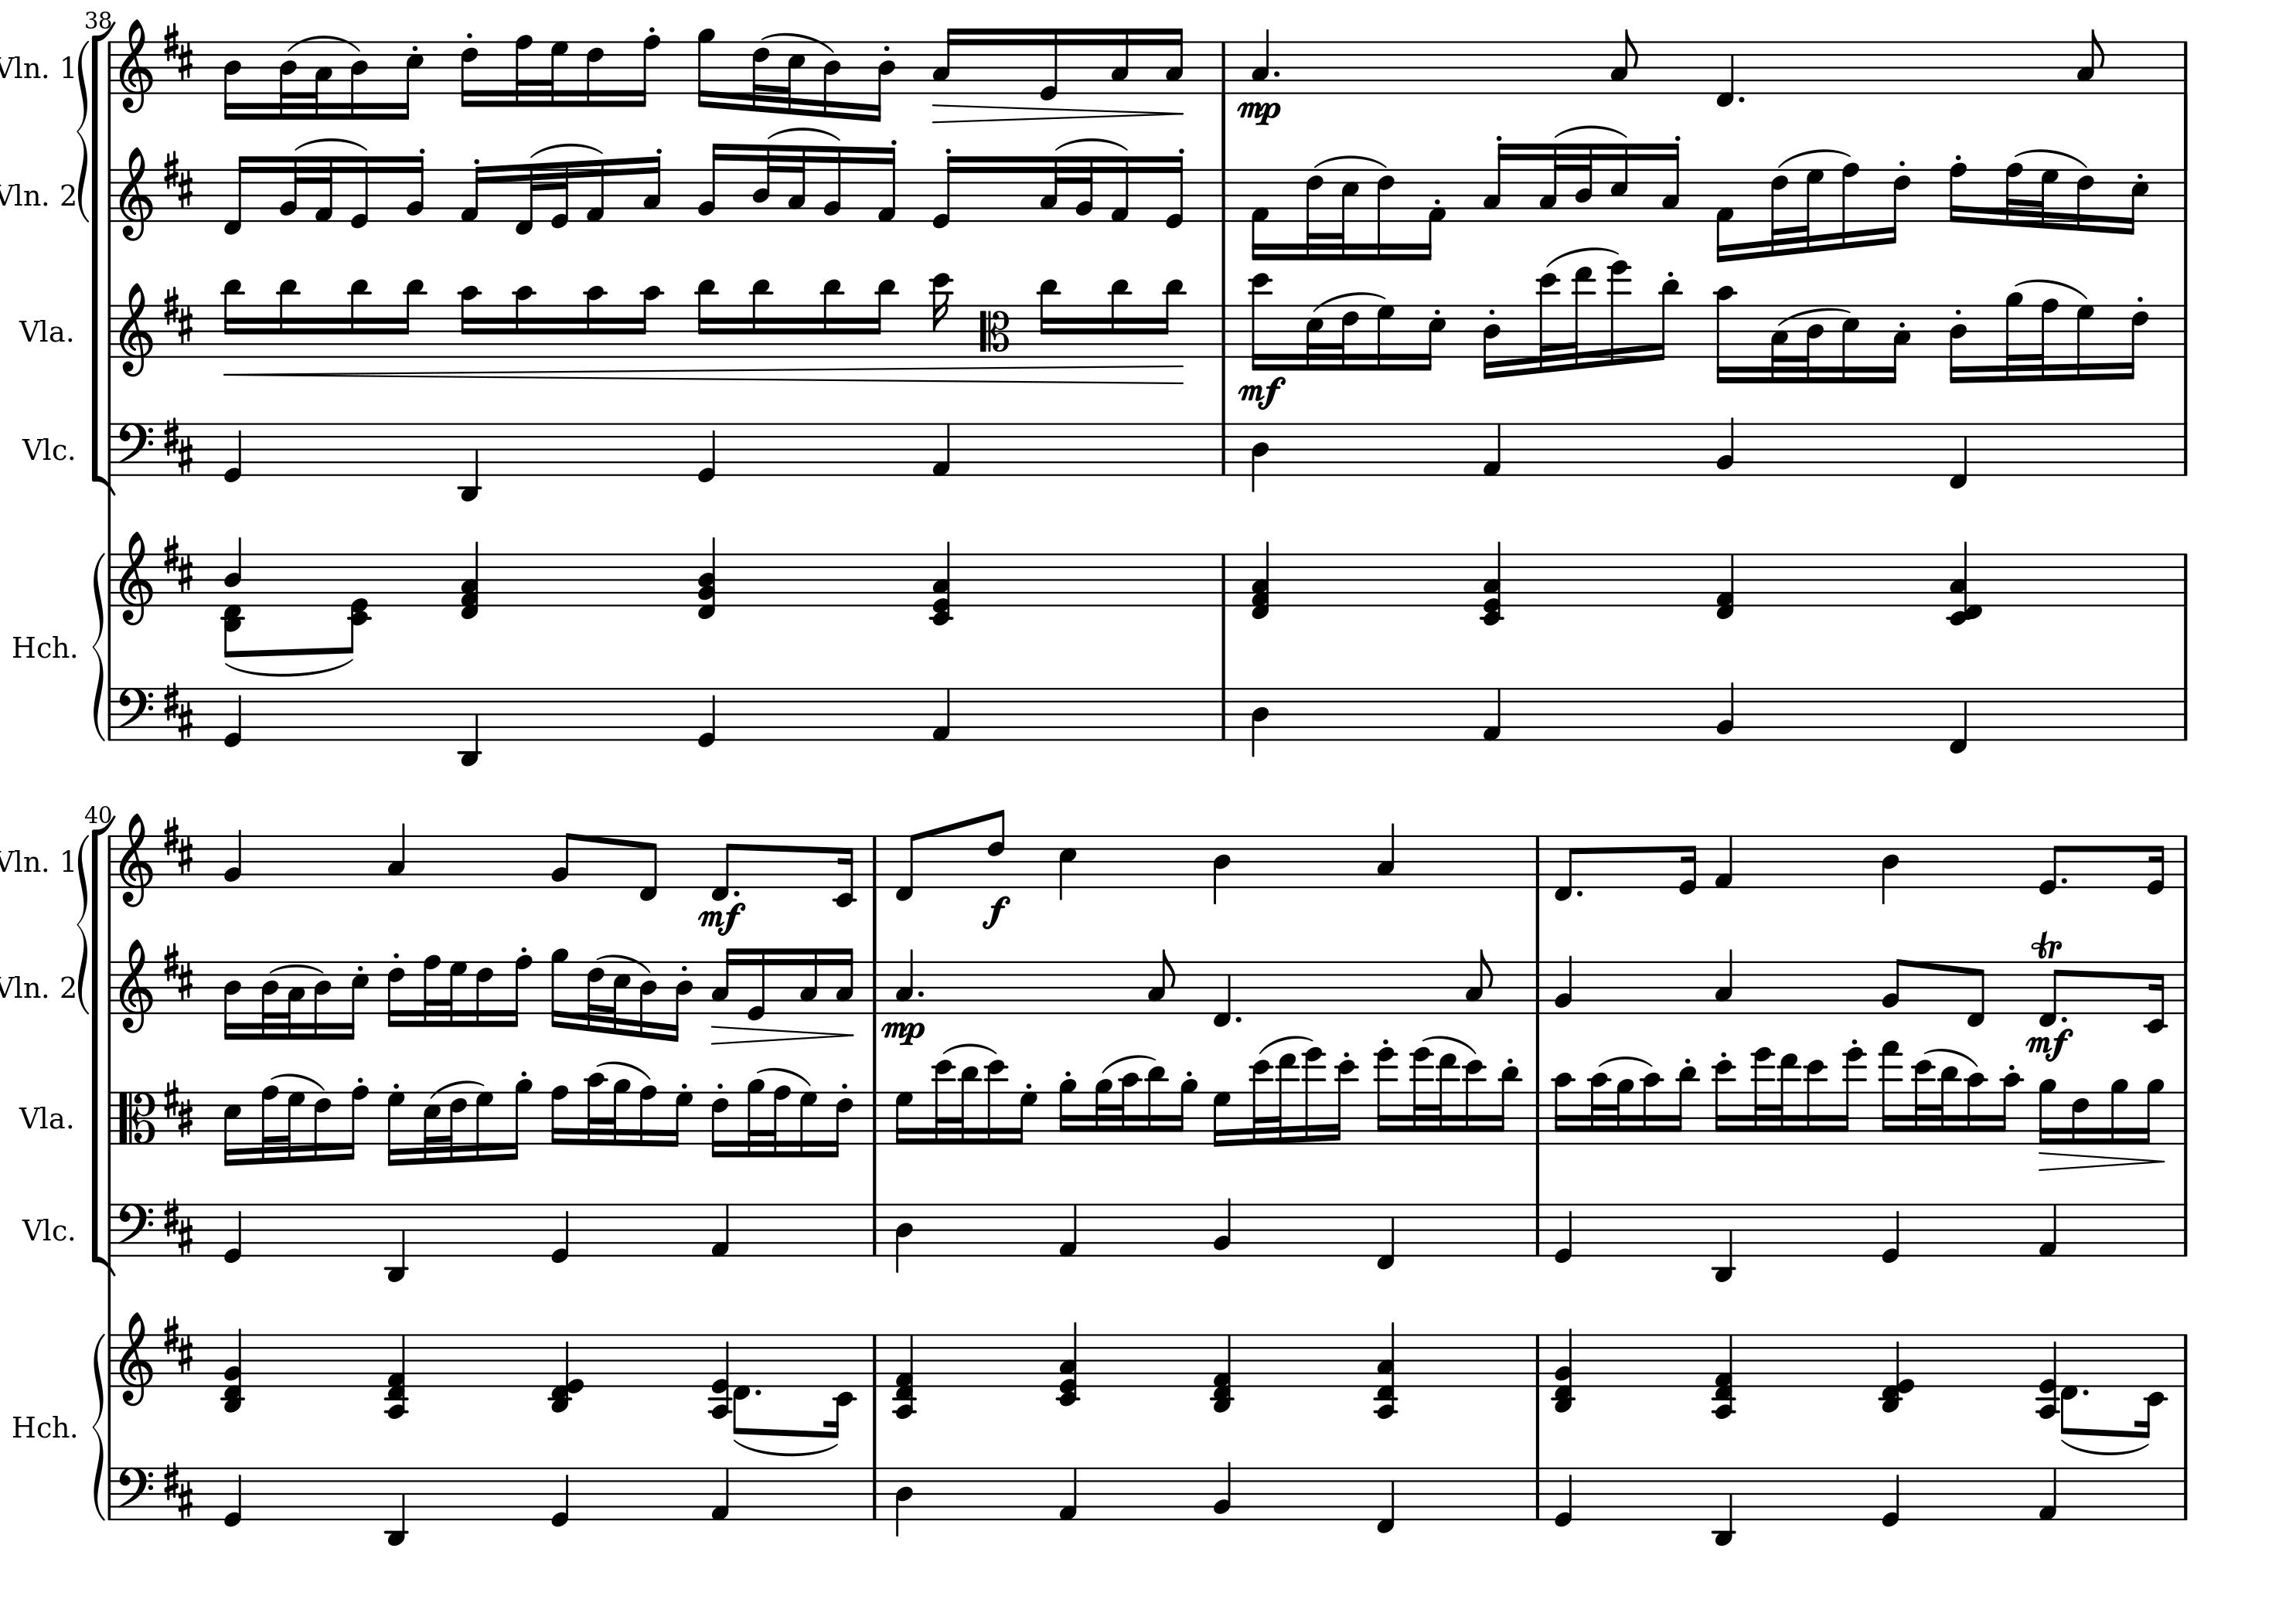0: (98, 803, 112, 824)
16_-1: (223, 153, 251, 235)
16_-2: (826, 1331, 856, 1439), (2136, 1331, 2166, 1439), (834, 833, 856, 908), (2145, 959, 2164, 1033)
16_0: (931, 151, 959, 228), (1163, 153, 1184, 230), (747, 945, 768, 1021), (1038, 26, 1059, 100), (350, 155, 369, 228), (1678, 834, 1699, 896), (2147, 834, 2166, 896)
16_1: (1421, 165, 1446, 258), (1251, 165, 1270, 262), (875, 142, 896, 223), (1716, 165, 1734, 262), (458, 163, 485, 223), (1108, 155, 1130, 225), (585, 156, 606, 223)
16_10: (1713, 283, 1739, 385), (1997, 1071, 2025, 1145), (1551, 1070, 1576, 1147), (1639, 1070, 1664, 1145), (638, 285, 662, 358), (1966, 1070, 1989, 1145), (458, 285, 481, 357), (513, 285, 534, 358), (585, 285, 606, 358)
16_11: (1653, 278, 1681, 362), (1493, 1064, 1521, 1145), (1672, 1064, 1700, 1145), (399, 278, 425, 358), (1158, 278, 1184, 358), (870, 278, 896, 353), (694, 278, 718, 357), (1036, 278, 1059, 358), (1108, 278, 1131, 358), (1145, 1064, 1168, 1145), (221, 278, 244, 357), (276, 278, 299, 357), (348, 278, 371, 357), (748, 278, 771, 357), (820, 278, 843, 355)
16_12: (1330, 1059, 1358, 1145), (1249, 271, 1272, 371), (1711, 1059, 1736, 1145), (1804, 1056, 1827, 1143), (929, 271, 952, 357), (986, 1059, 1008, 1145), (1463, 1059, 1486, 1145)
16_14: (1838, 1045, 1866, 1145), (1607, 258, 1630, 369), (1302, 1045, 1326, 1145), (1374, 1047, 1398, 1145)
16_15: (1880, 1040, 1903, 1145)
16_2: (697, 141, 724, 223), (822, 142, 843, 223), (406, 155, 425, 223)
16_3: (1887, 302, 1911, 385), (1483, 141, 1507, 221), (710, 947, 736, 1015), (933, 26, 957, 95), (1660, 142, 1679, 223), (641, 153, 662, 223), (1110, 26, 1130, 95), (1165, 26, 1184, 95), (799, 947, 819, 1013), (834, 947, 854, 1013)
16_4: (870, 39, 896, 123), (669, 959, 694, 1043), (221, 39, 242, 121), (221, 959, 242, 1042), (348, 39, 369, 119), (1481, 302, 1502, 379), (1948, 302, 1967, 385), (822, 39, 841, 119), (313, 959, 332, 1040), (638, 959, 657, 1038)
16_5: (397, 39, 425, 121), (343, 959, 369, 1040), (1419, 302, 1446, 372), (1609, 141, 1630, 223), (2124, 167, 2148, 235), (221, 1089, 242, 1166), (1841, 304, 1860, 385)
16_6: (1885, 167, 1911, 244), (2122, 302, 2148, 379), (1375, 167, 1395, 262), (827, 1089, 854, 1158), (585, 39, 606, 109), (385, 959, 406, 1028), (474, 959, 495, 1028), (313, 1089, 332, 1163), (2075, 167, 2096, 232), (458, 39, 478, 109), (710, 1089, 729, 1158), (2071, 1089, 2090, 1147)
16_7: (2075, 302, 2096, 383), (668, 1089, 694, 1147), (386, 1089, 406, 1166), (1012, 1089, 1038, 1145), (798, 1089, 819, 1158), (474, 1089, 494, 1163), (1375, 302, 1395, 372), (894, 1091, 915, 1145), (1212, 1089, 1231, 1147)
16_8: (343, 1082, 369, 1161), (632, 33, 661, 107), (506, 954, 534, 1028), (1841, 162, 1859, 249), (550, 1082, 569, 1147), (638, 1082, 657, 1147), (1948, 162, 1967, 225)
16_9: (506, 1077, 532, 1159), (2138, 1077, 2164, 1145), (1173, 1077, 1198, 1145), (696, 26, 715, 109), (550, 947, 569, 1029), (2108, 1077, 2129, 1145), (1058, 1077, 1077, 1145), (2038, 1077, 2057, 1145)
3: (84, 7, 97, 28)
32_-1: (513, 162, 539, 235)
32_0: (550, 160, 569, 227)
32_1: (314, 155, 334, 223)
32_10: (1117, 1070, 1142, 1145), (1586, 1070, 1611, 1145), (585, 1070, 608, 1145)
32_11: (956, 1064, 980, 1145), (1936, 1064, 1960, 1145)
32_12: (1537, 271, 1560, 374), (931, 1057, 954, 1145), (1911, 1057, 1934, 1145), (1249, 1059, 1272, 1145)
32_13: (1272, 1052, 1298, 1145), (1570, 265, 1593, 372), (1774, 1052, 1799, 1145), (1435, 1052, 1458, 1145)
32_14: (1409, 1045, 1433, 1145), (1751, 1045, 1774, 1145)
32_2: (278, 155, 304, 223), (1075, 155, 1094, 223)
32_3: (1537, 141, 1562, 223), (309, 39, 334, 119), (283, 959, 306, 1040), (1038, 155, 1065, 223), (1769, 302, 1790, 385), (787, 142, 806, 223)
32_4: (750, 142, 775, 223), (1801, 304, 1825, 385), (278, 39, 299, 119), (1574, 142, 1593, 223), (260, 959, 279, 1040)
32_5: (1335, 167, 1360, 258), (780, 39, 806, 116), (606, 959, 631, 1035), (1303, 304, 1326, 371), (422, 1089, 441, 1165)
32_6: (1305, 167, 1325, 262), (1335, 302, 1360, 371), (444, 1089, 467, 1163), (1771, 167, 1788, 258), (587, 959, 606, 1033), (752, 39, 769, 112)
32_7: (1799, 167, 1825, 255), (543, 39, 569, 107), (283, 1089, 306, 1163), (444, 959, 467, 1028), (2034, 167, 2059, 230)
32_8: (2034, 297, 2059, 381), (768, 1082, 791, 1158), (260, 1084, 279, 1166), (515, 33, 534, 109), (422, 954, 441, 1028), (2006, 162, 2024, 227)
32_9: (2004, 290, 2024, 383), (1613, 1077, 1635, 1145), (747, 1077, 766, 1158), (610, 1077, 631, 1147), (1093, 1077, 1114, 1143)
4: (83, 803, 97, 824)
4_-1: (1948, 420, 1969, 490), (1375, 1463, 1397, 1533), (1948, 685, 1969, 754), (1375, 1200, 1397, 1268), (1212, 959, 1231, 1026)
4_-3: (1711, 1200, 1736, 1282), (385, 1200, 408, 1282), (385, 1463, 408, 1546), (1713, 1463, 1736, 1546), (458, 685, 481, 766), (458, 420, 480, 501)
4_0: (223, 685, 244, 748), (223, 1465, 244, 1526), (550, 1465, 571, 1526), (1881, 1465, 1903, 1526), (697, 420, 717, 483), (697, 685, 717, 748), (223, 422, 242, 483), (223, 1201, 242, 1263), (552, 1201, 571, 1263), (1555, 1201, 1574, 1263), (1881, 1201, 1901, 1263), (1555, 1465, 1574, 1526)
4_1: (2038, 1201, 2059, 1258), (931, 422, 952, 476), (931, 687, 952, 741), (710, 1201, 731, 1256), (1058, 1203, 1079, 1258), (710, 1467, 731, 1521), (1058, 1467, 1079, 1521), (2038, 1467, 2059, 1521), (1715, 833, 1734, 889), (1483, 422, 1502, 476), (1483, 687, 1502, 741)
4_2: (1716, 415, 1737, 478), (1716, 678, 1737, 741), (1214, 1194, 1235, 1258), (223, 827, 244, 889), (1214, 1458, 1235, 1519), (1555, 952, 1574, 1015)
4_3: (1375, 820, 1397, 889), (894, 947, 915, 1012), (386, 820, 406, 889), (1715, 947, 1734, 1015), (1251, 26, 1270, 93)
4_4: (1251, 683, 1270, 757), (1251, 420, 1270, 492), (1212, 833, 1231, 905), (1880, 833, 1899, 905), (894, 1465, 913, 1537), (894, 1201, 913, 1272)
4_5: (1058, 833, 1077, 901)
4_th: (1946, 541, 1983, 625), (1878, 1333, 1915, 1416), (550, 1333, 585, 1412), (1374, 1319, 1398, 1417), (891, 1333, 917, 1419), (1479, 539, 1504, 625), (929, 541, 954, 627), (1551, 1328, 1576, 1412), (1711, 1333, 1736, 1417), (385, 1333, 409, 1417), (1058, 1319, 1080, 1407), (223, 1326, 246, 1412), (1210, 1333, 1233, 1414), (458, 539, 480, 620), (697, 536, 717, 620), (1251, 539, 1270, 620)
8: (98, 7, 114, 28)
8_-1: (729, 1333, 752, 1435), (710, 831, 736, 901), (894, 831, 921, 901), (1553, 833, 1578, 901), (2038, 959, 2062, 1026), (1715, 39, 1736, 107), (1967, 959, 1987, 1028), (639, 833, 659, 899)
8_0: (2038, 833, 2064, 894)
8_2: (550, 831, 576, 889), (1881, 957, 1908, 1015)
8_3: (1609, 26, 1639, 95), (1463, 947, 1493, 1015), (2076, 26, 2105, 95), (1147, 947, 1175, 1013)
8_6: (986, 808, 1007, 889)
Brace: (90, 552, 105, 741), (91, 1330, 105, 1519), (74, 833, 88, 1010), (76, 39, 88, 220)
Bracke: (90, 815, 119, 1279), (90, 19, 114, 501)
Cclef: (116, 1089, 155, 1143), (978, 302, 1010, 357)
Crescendo_hairpin: (221, 365, 1184, 385), (2038, 1149, 2168, 1170)
D_S: (162, 19, 193, 79), (162, 148, 193, 207), (162, 415, 193, 474), (162, 678, 193, 738), (162, 1077, 193, 1136), (162, 1460, 193, 1519), (162, 285, 193, 343), (162, 1196, 193, 1254), (162, 1314, 193, 1372), (162, 534, 193, 590), (162, 817, 193, 873), (163, 940, 193, 998)
Diminuendo_hairpin: (710, 1024, 859, 1045)
Fclef: (116, 685, 155, 741), (116, 1465, 155, 1521), (116, 1201, 155, 1256), (118, 420, 155, 476)
Gclef: (118, 144, 155, 242), (118, 281, 155, 378), (118, 529, 155, 625), (118, 1310, 155, 1407), (118, 18, 155, 112), (118, 936, 153, 1035), (118, 811, 153, 908)
Hch: (9, 629, 72, 664), (7, 1412, 72, 1444)
Single_barline: (866, 1203, 884, 1256), (1216, 423, 1233, 474), (1216, 167, 1231, 221), (1530, 959, 1546, 1013), (1216, 40, 1231, 93), (1216, 304, 1231, 357), (1216, 553, 1231, 606), (1216, 687, 1231, 739), (1530, 1203, 1546, 1256), (2177, 1203, 2192, 1256), (2177, 1467, 2192, 1519), (1530, 1467, 1546, 1519), (2177, 423, 2192, 474), (2177, 553, 2192, 604), (2177, 689, 2192, 739), (1530, 1091, 1546, 1142), (104, 40, 118, 93), (2178, 40, 2192, 93), (2178, 169, 2192, 221), (2178, 304, 2192, 357), (1530, 1333, 1544, 1386), (868, 1467, 882, 1519), (1530, 836, 1544, 887), (2178, 836, 2192, 887), (868, 1091, 882, 1142), (868, 1333, 882, 1384), (2178, 1333, 2192, 1384), (104, 423, 116, 476), (104, 687, 116, 739), (104, 834, 116, 887), (2178, 961, 2191, 1013), (104, 1203, 116, 1256), (105, 1467, 118, 1519), (104, 169, 116, 220), (868, 836, 880, 887), (104, 961, 116, 1012), (868, 961, 880, 1012), (104, 1091, 116, 1142), (2178, 1091, 2191, 1142), (104, 306, 116, 355), (105, 553, 116, 606), (105, 1333, 116, 1386)
Slur: (225, 655, 355, 676), (2011, 278, 2090, 299), (734, 1439, 838, 1454), (759, 32, 834, 53), (2011, 148, 2087, 169), (1544, 244, 1620, 265), (1774, 148, 1853, 167), (1309, 292, 1388, 311), (285, 35, 364, 53), (2064, 1439, 2148, 1454), (527, 142, 606, 158), (1553, 123, 1630, 139), (594, 1059, 652, 1080), (1314, 153, 1388, 169), (597, 952, 652, 973), (1101, 1052, 1156, 1073), (269, 1071, 327, 1091), (427, 1078, 485, 1098), (293, 137, 369, 151), (1054, 137, 1130, 151), (1258, 1035, 1312, 1054), (1423, 1035, 1477, 1054), (1925, 1047, 1980, 1066), (759, 1066, 813, 1086), (764, 126, 840, 139), (942, 1042, 998, 1056), (1597, 1054, 1653, 1068), (269, 963, 325, 975)
Trill: (2029, 929, 2062, 959)
Vla: (19, 1101, 67, 1135)
Vlc: (21, 1212, 69, 1247), (21, 432, 67, 465)
Vln: (19, 316, 67, 348), (0, 971, 42, 1003), (0, 179, 40, 211), (0, 51, 39, 83), (0, 847, 40, 876)
dot: (1231, 1012, 1244, 1024), (2057, 875, 2069, 885), (752, 1386, 764, 1396), (1270, 67, 1281, 77), (1736, 93, 1746, 104), (1574, 887, 1585, 898), (915, 987, 926, 998), (2059, 1012, 2069, 1022), (2080, 1386, 2090, 1396), (731, 887, 741, 896)
f: (980, 894, 1012, 929)
mf: (697, 901, 748, 938), (1237, 374, 1286, 411), (2024, 1028, 2075, 1063)
mp: (1233, 97, 1282, 128), (878, 1017, 926, 1049)
